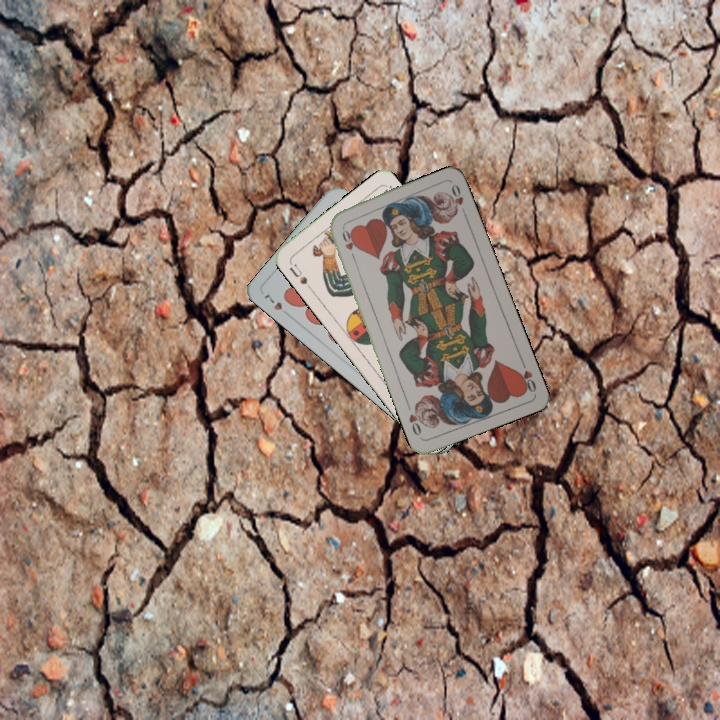H7: (260, 289, 285, 313)
HO: (514, 356, 539, 395), (338, 223, 358, 263)
SU: (285, 258, 315, 292)
